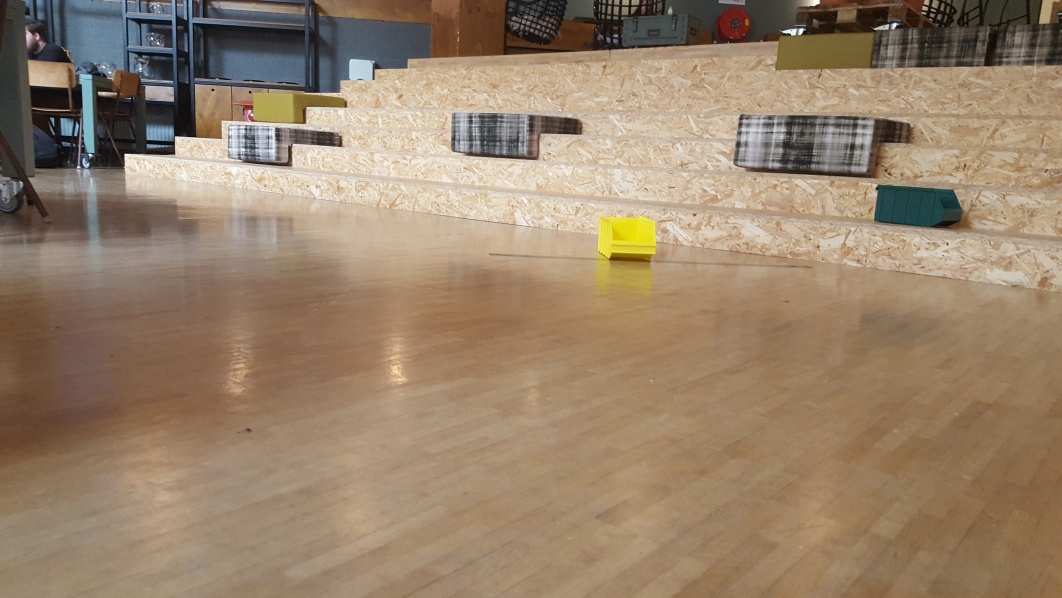tray: (872, 184, 967, 228), (593, 216, 658, 262)
